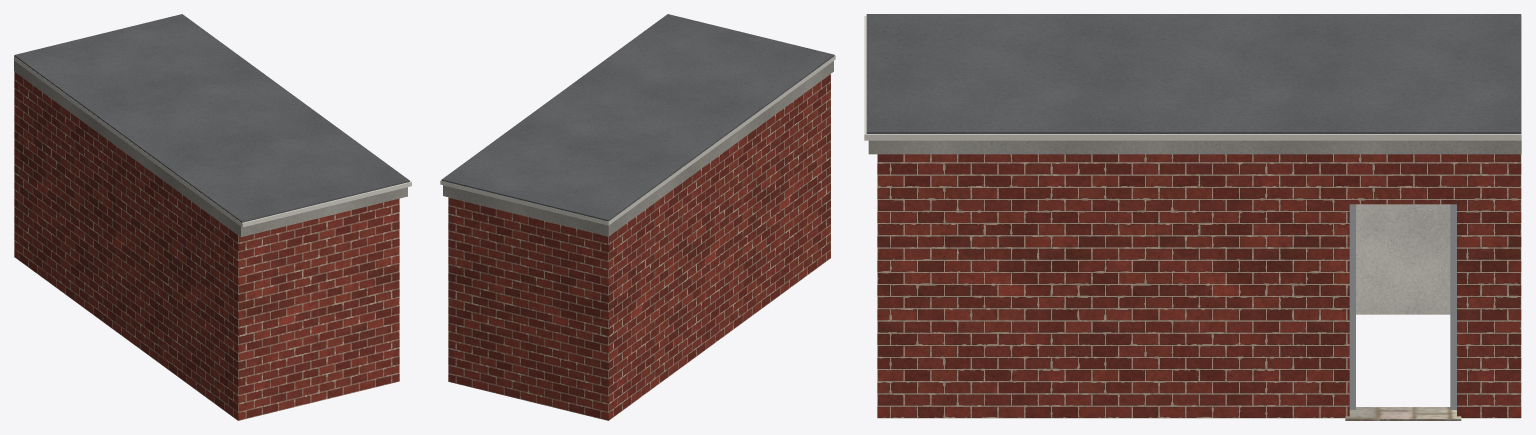
File: penthouse.glb
The picture shows the model from 3 angles, left to right: view 1: azimuth 30°, elevation 25°; view 2: azimuth 150°, elevation 25°; view 3: azimuth 270°, elevation 25°; orthographic projection. The views are drawn at different scales.
Parts seen in each view (by area): view 1: penthouse_brick, penthouse_membrane, penthouse_concrete, penthouse_coping; view 2: penthouse_brick, penthouse_membrane, penthouse_concrete, penthouse_coping; view 3: penthouse_brick, penthouse_membrane, penthouse_plaster, penthouse_concrete, penthouse_coping, penthouse_steel, penthouse_stone2.
Part boxes in pixels (box(x1,y1,x2,y2)): penthouse_brick: box(14, 71, 399, 420); penthouse_membrane: box(14, 14, 409, 222); penthouse_concrete: box(14, 60, 407, 236); penthouse_coping: box(14, 56, 411, 227); penthouse_brick: box(448, 74, 830, 420); penthouse_membrane: box(441, 14, 834, 221); penthouse_concrete: box(443, 61, 833, 236); penthouse_coping: box(440, 55, 835, 225); penthouse_brick: box(877, 154, 1521, 418); penthouse_membrane: box(866, 14, 1521, 133); penthouse_plaster: box(1356, 204, 1450, 314); penthouse_concrete: box(868, 140, 1521, 154); penthouse_coping: box(864, 16, 1521, 140); penthouse_steel: box(1349, 204, 1456, 409); penthouse_stone2: box(1345, 407, 1461, 420).
Bounding box in the file's own units: 2.62 × 2.99 × 6.12.
7 materials, 5 textured.
